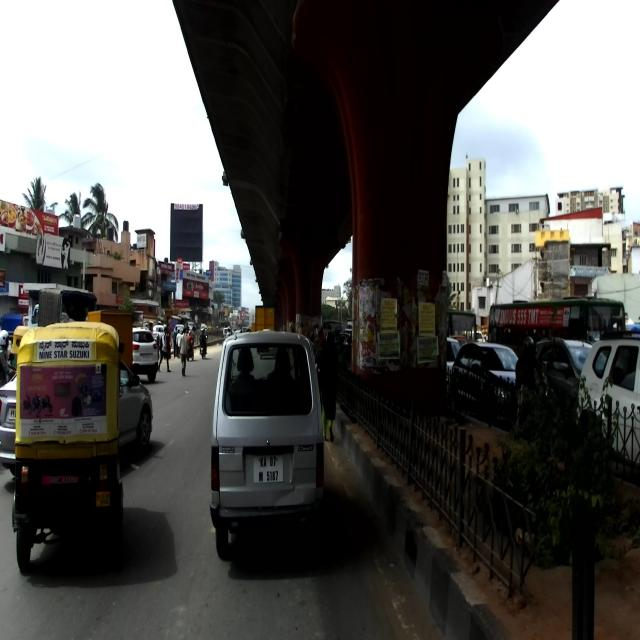autorickshaw: (11, 320, 127, 578)
car: (209, 331, 325, 561)
